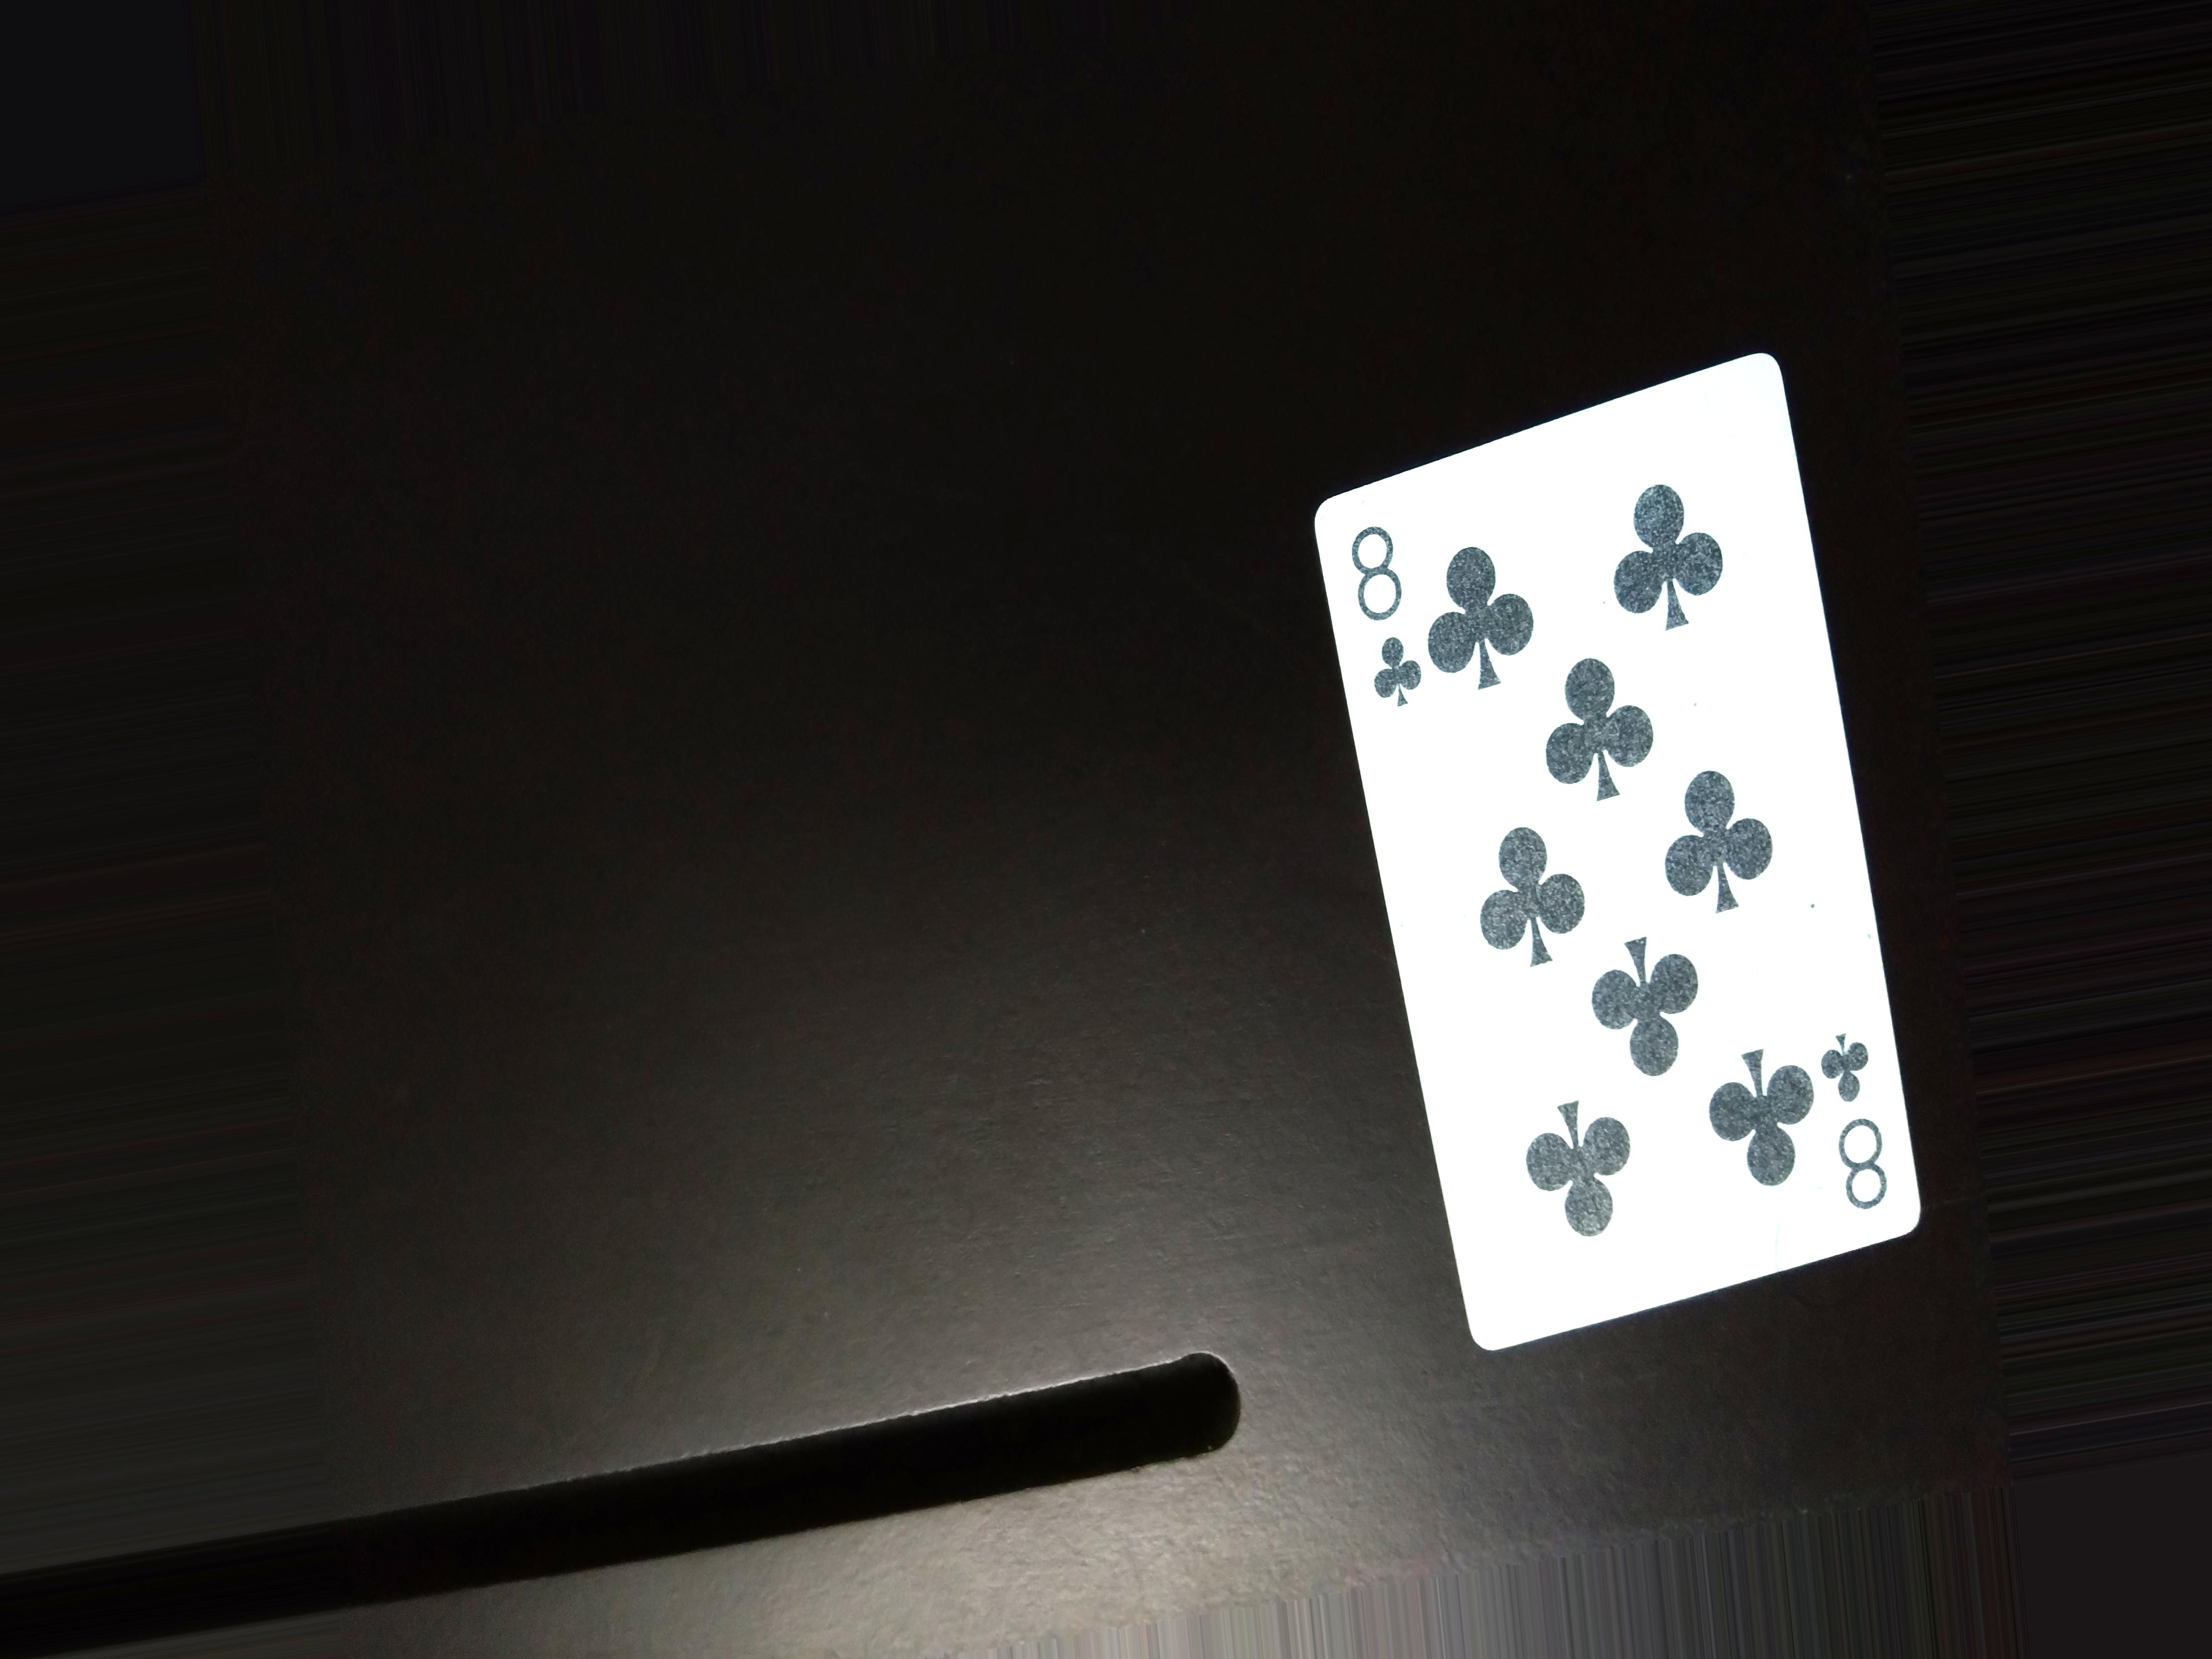8C: (1815, 1011, 1900, 1237)
